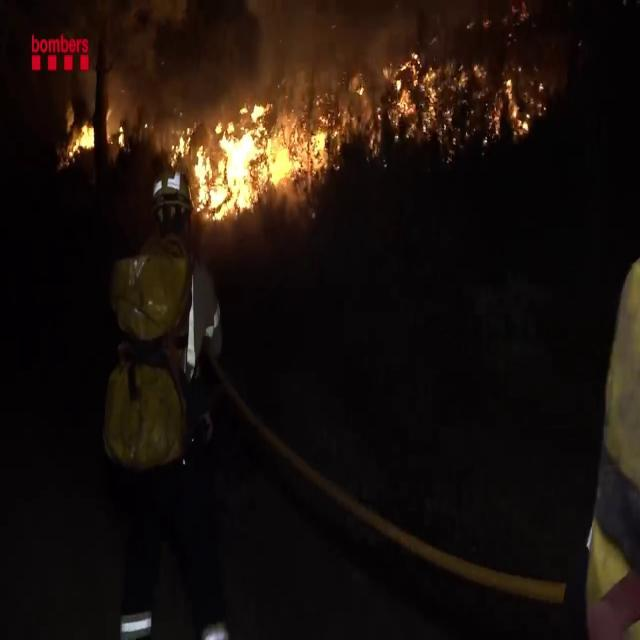Fire: (185, 96, 302, 220), (387, 44, 439, 140), (66, 113, 96, 162)
